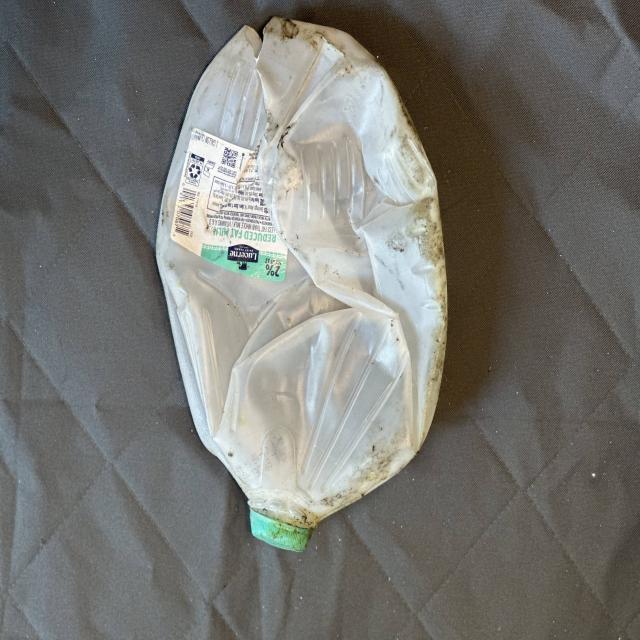milk-jug: (159, 15, 452, 557)
